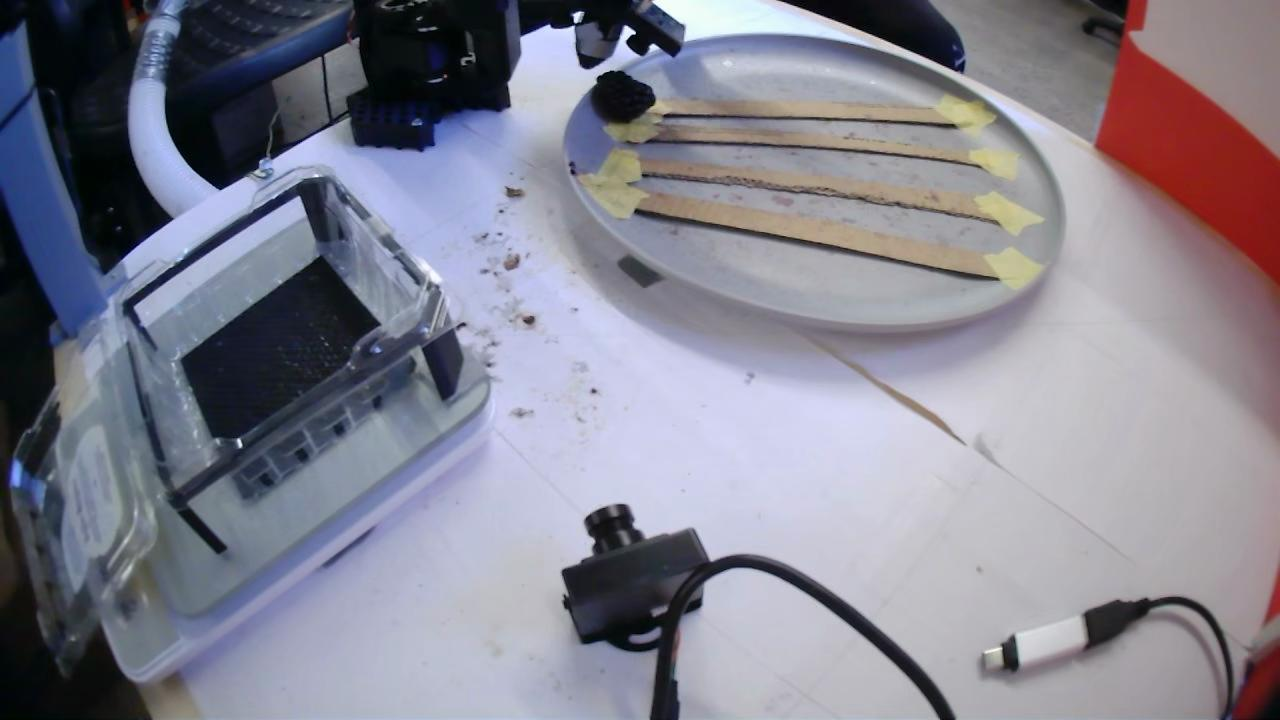berry: (591, 71, 655, 123)
